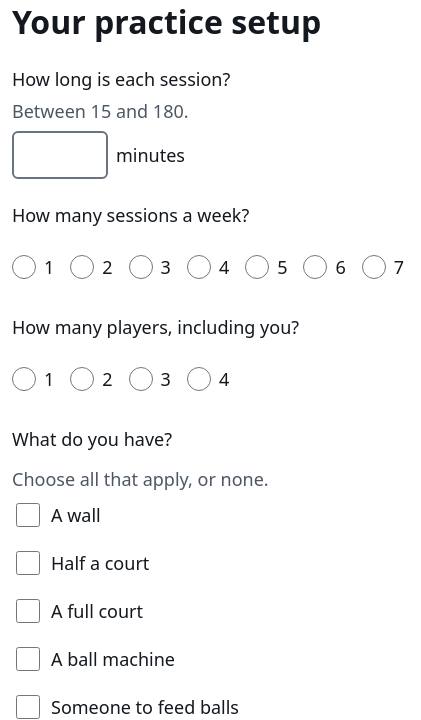
it: P-02 makes the plan › offline: the form stays editable and "Make my plan" says it needs a connection
Type "30" into the field labelled "How long is each session?".
click(60, 155); type("30")  # box [12,131,108,179]
(page scrolled)
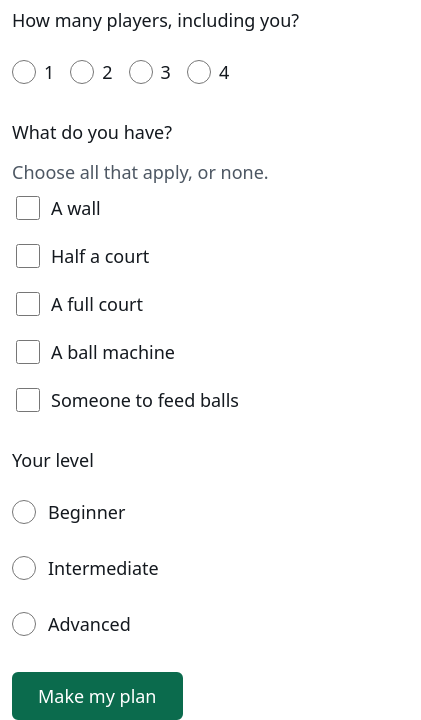
expect the button "Make my plan" is enabled: met, box [12,672,182,719]
